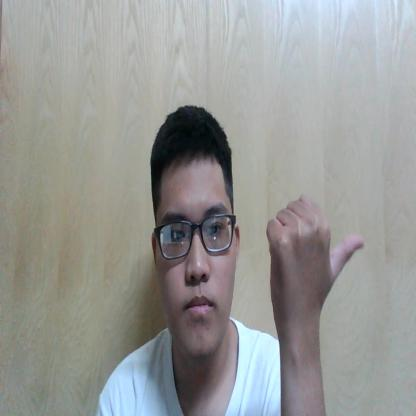left: (264, 189, 365, 322)
